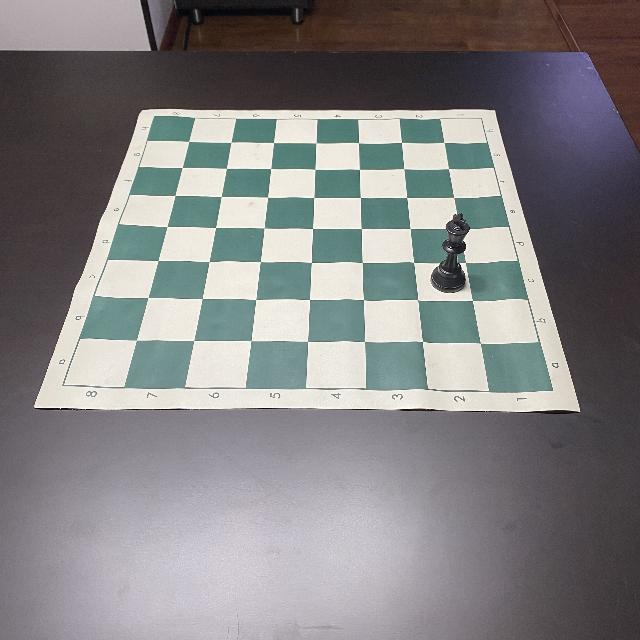black-king: (430, 211, 470, 293)
board: (35, 108, 582, 412)
